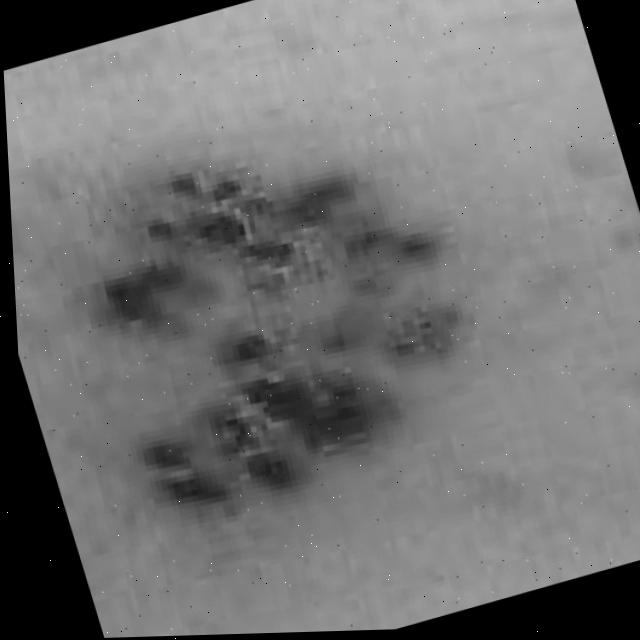Shingles: (57, 103, 506, 530)
